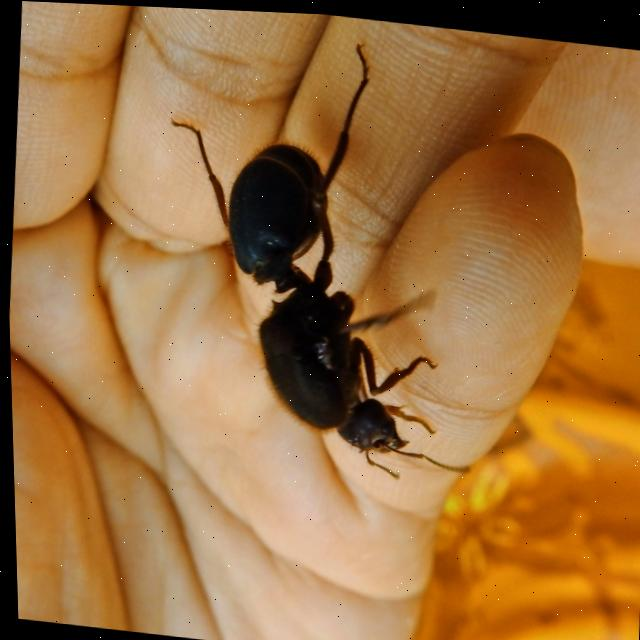Alive-Female-Dealate: (143, 17, 497, 486)
